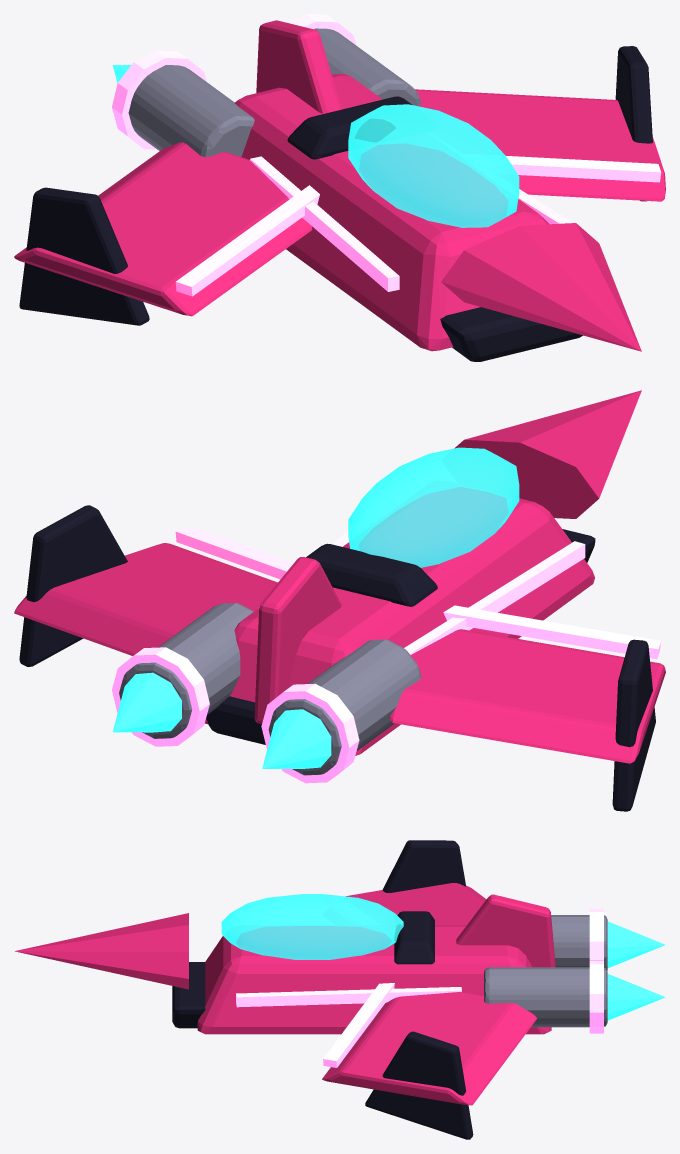
Rendered from craft.glb.
3 renders of one model, top to bottom at view 1: azimuth 30°, elevation 25°; view 2: azimuth 150°, elevation 25°; view 3: azimuth 270°, elevation 25°, orthographic. The views are drawn at different scales.
Parts seen in each view (by area): view 1: hull, wing-mirror, canopy, nose, wing, fin-mirror, thruster-mirror, tail, keel, wing-trim-mirror, canopy-frame, side-strip-mirror (+6 smaller); view 2: hull, wing-mirror, wing, canopy, nose, thruster-mirror, fin, tail, thruster, canopy-frame, fin-mirror, wing-trim-mirror (+7 smaller); view 3: hull, wing, canopy, nose, fin, thruster, tail, fin-mirror, wing-mirror, side-strip, thruster-mirror, canopy-frame (+6 smaller).
Boxes of the visible parts, x1,y1,x2,y2 form: hull: (234, 74, 549, 351); wing-mirror: (14, 142, 312, 316); canopy: (348, 104, 519, 227); nose: (441, 223, 641, 351); wing: (415, 89, 665, 201); fin-mirror: (19, 187, 149, 325); thruster-mirror: (128, 65, 254, 157); tail: (256, 20, 341, 113); keel: (440, 307, 582, 361); wing-trim-mirror: (175, 185, 319, 296); canopy-frame: (287, 96, 411, 159); side-strip-mirror: (250, 156, 399, 291); hull: (204, 487, 594, 755); wing-mirror: (389, 629, 665, 763); wing: (14, 543, 277, 655); canopy: (348, 447, 519, 567); nose: (455, 390, 641, 518); thruster-mirror: (268, 639, 421, 775); fin: (19, 505, 127, 666); tail: (254, 557, 341, 724); thruster: (119, 603, 253, 738); canopy-frame: (306, 543, 437, 606); fin-mirror: (612, 639, 655, 811); wing-trim-mirror: (443, 605, 661, 659); hull: (197, 925, 551, 1034); wing: (322, 992, 536, 1105); canopy: (221, 894, 403, 959); nose: (15, 913, 188, 989); fin: (365, 1031, 473, 1139); thruster: (484, 967, 607, 1027); tail: (456, 894, 555, 967); fin-mirror: (382, 840, 465, 892); wing-mirror: (346, 883, 486, 925); side-strip: (236, 987, 461, 1007); thruster-mirror: (551, 915, 607, 970); canopy-frame: (394, 911, 434, 964).
Size of what is drawn, in the model's own units: 1.18 by 0.3485 by 1.5.
